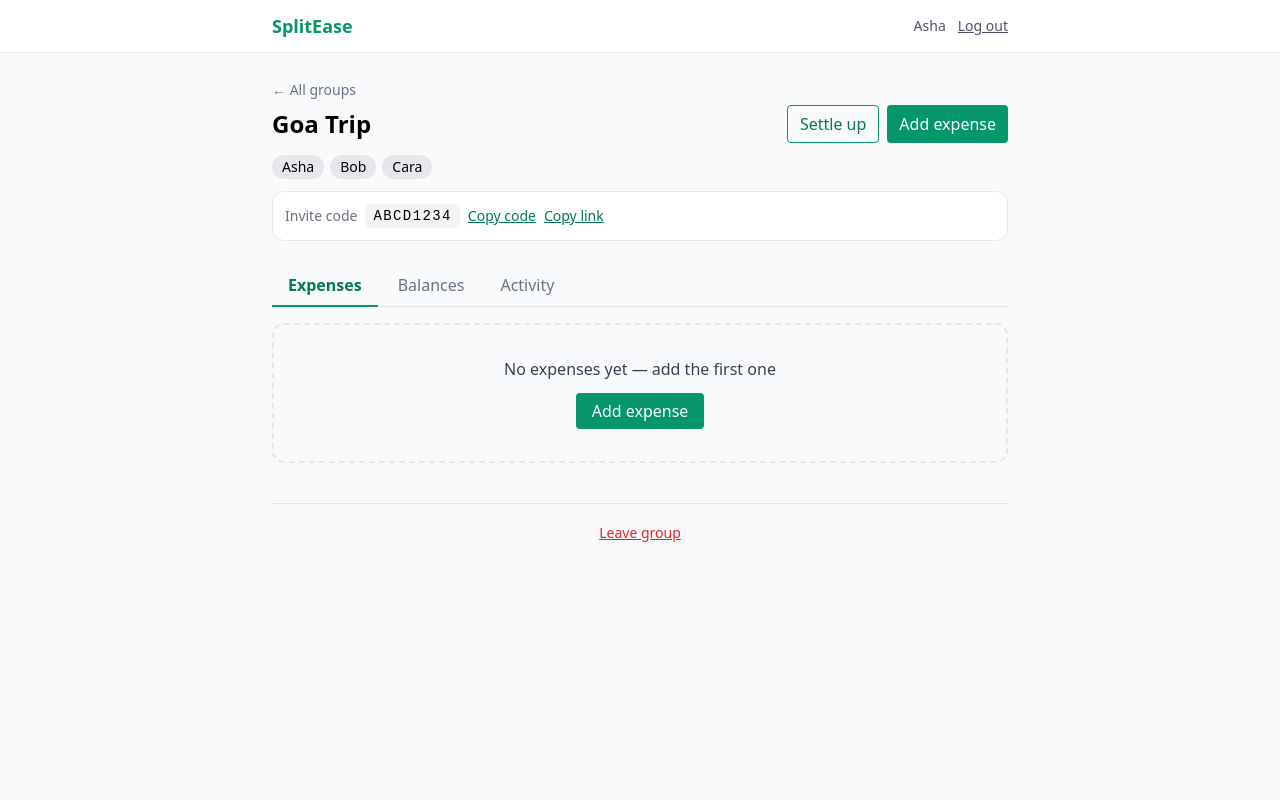
Test case: settle up › only offers "Mark as paid" for payments involving me
The width and height of the screenshot is (1280, 800).
Click the tab "Balances" at (431, 286), box [382,265,480,307]
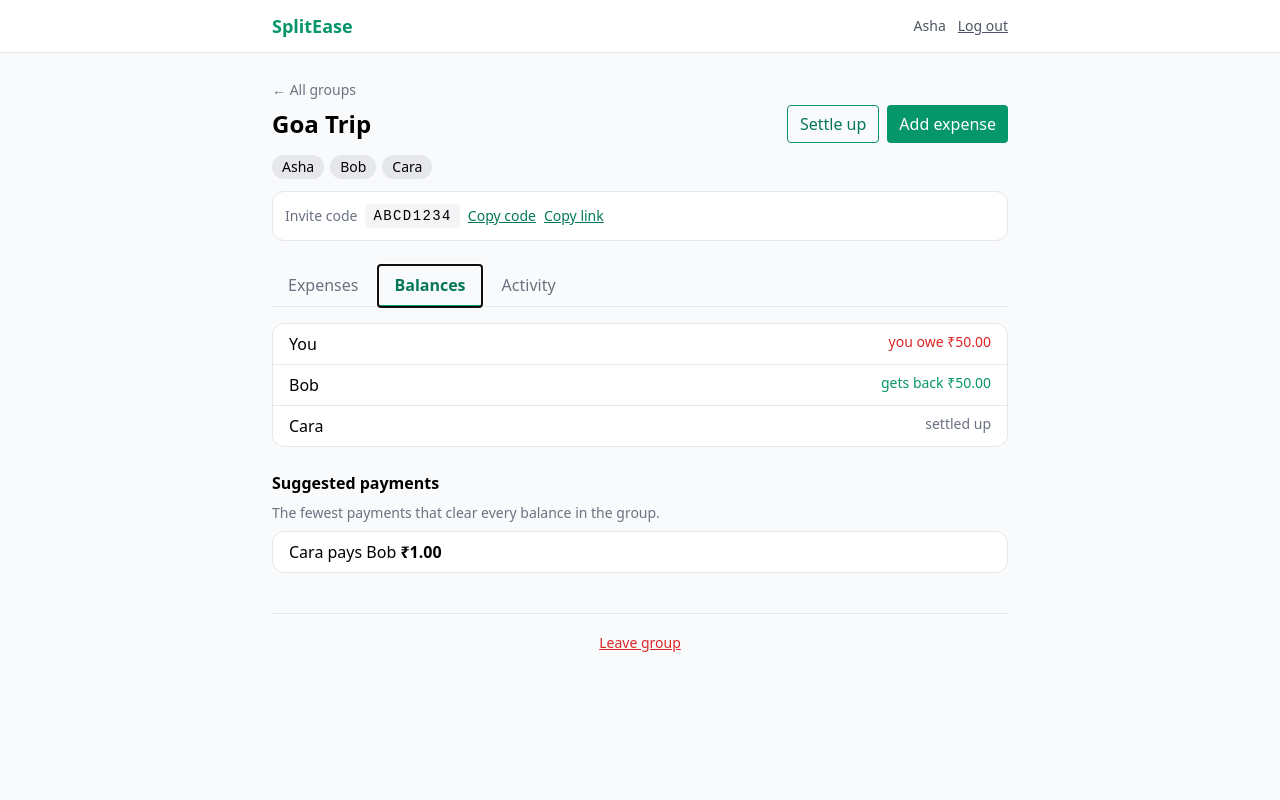
Check: the text "Cara pays Bob ₹1.00" is shown, box [289,540,442,564]
